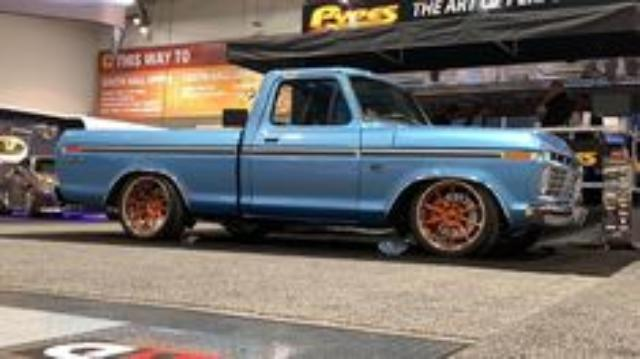pickup-truck: (52, 67, 586, 260)
